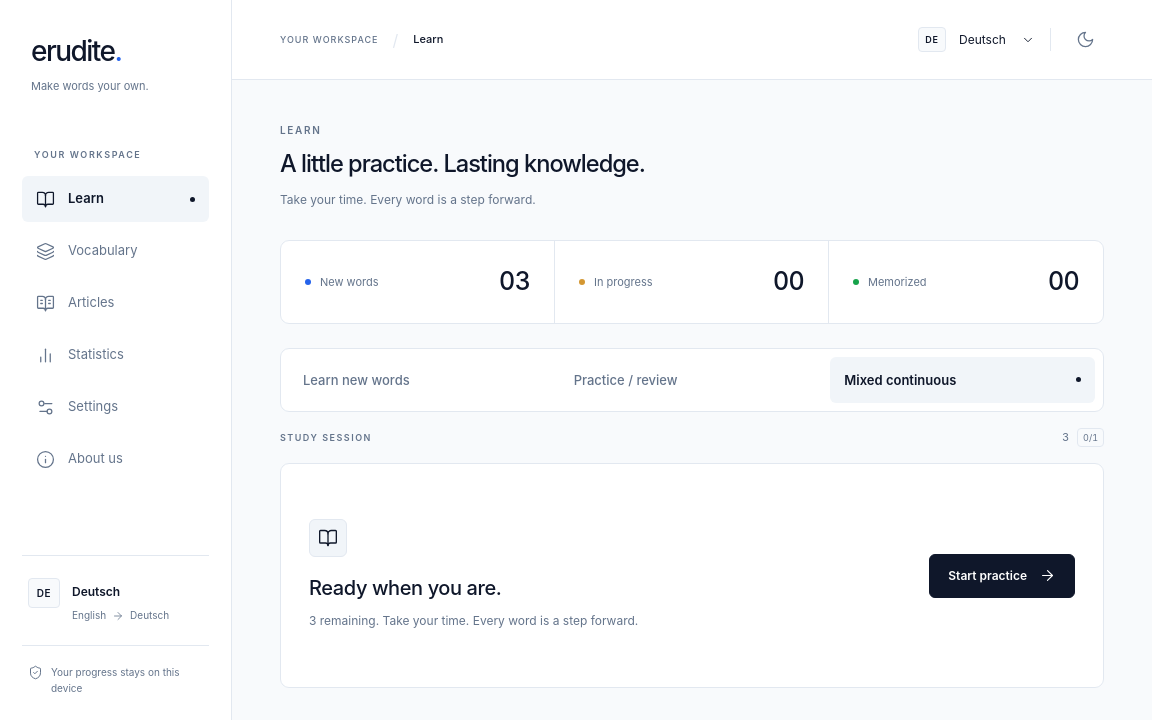
Test: daily word goal › restores daily progress on undo and celebrates again on reaching the goal
The width and height of the screenshot is (1152, 720).
Click the button "Start practice" at (1002, 576), box [929,554,1075,598]
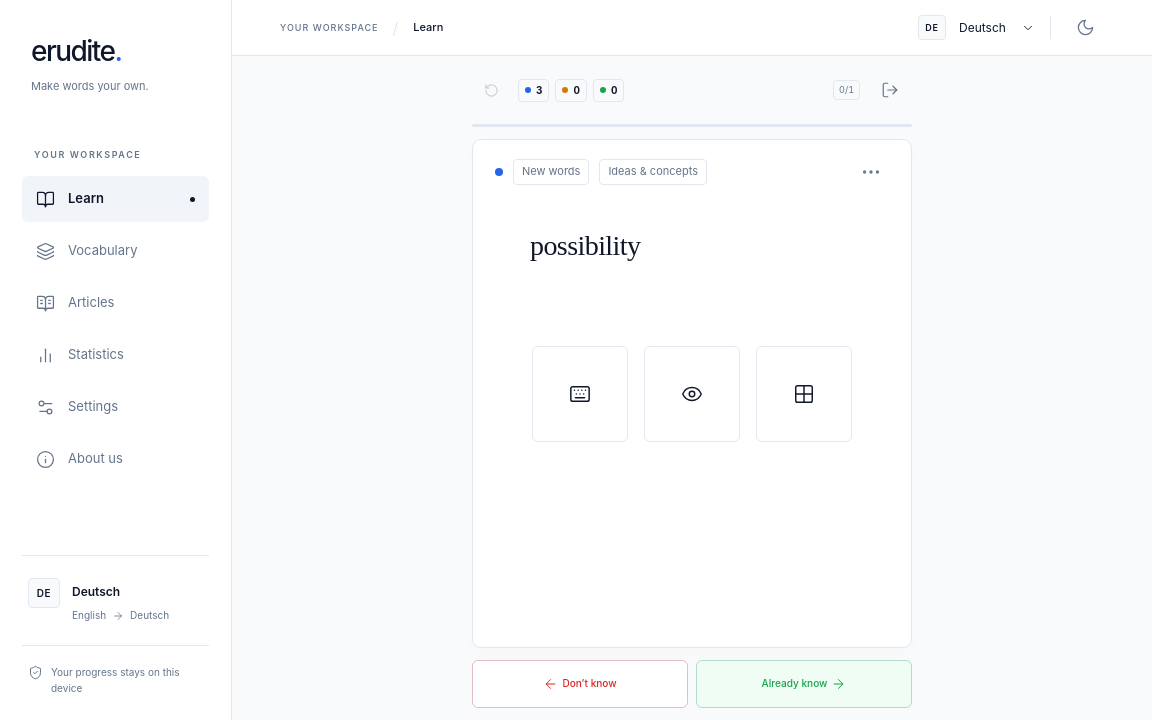
Click the button with class "action-know" at (804, 684), box [696,660,912,708]
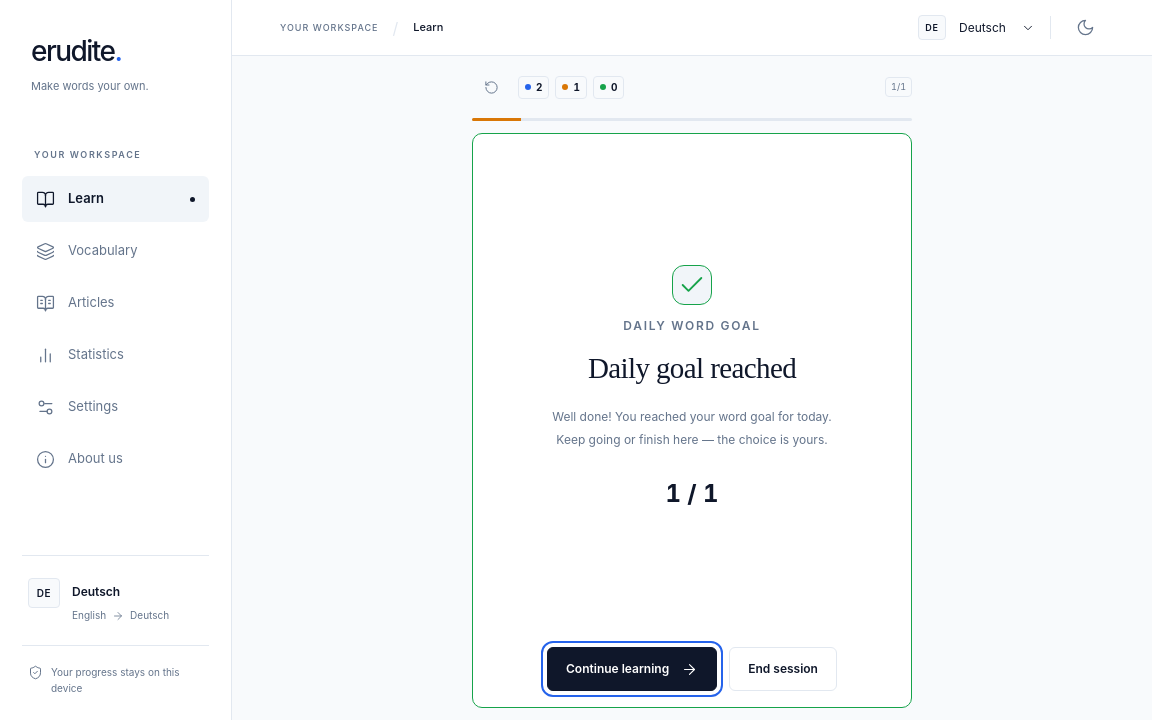
Press z in the button "Continue learning", box [547,647,717,691]
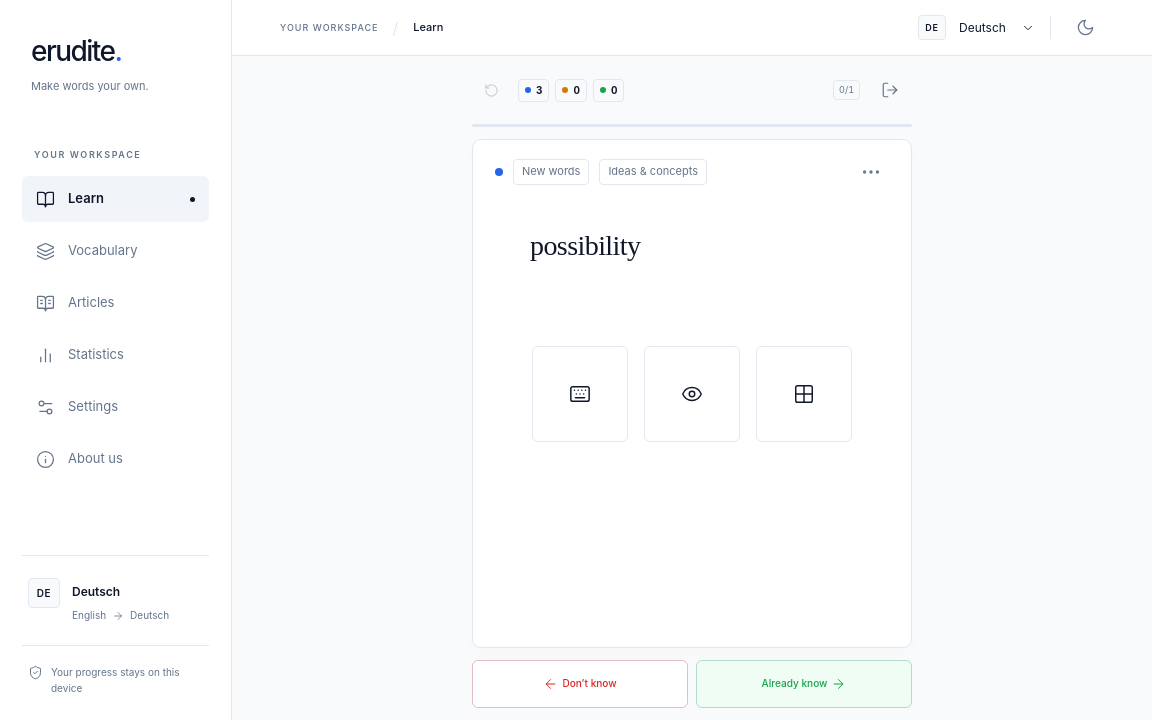
Now the text "Daily goal reached" is gone
Click the button with class "action-know" at (804, 684), box [696,660,912,708]
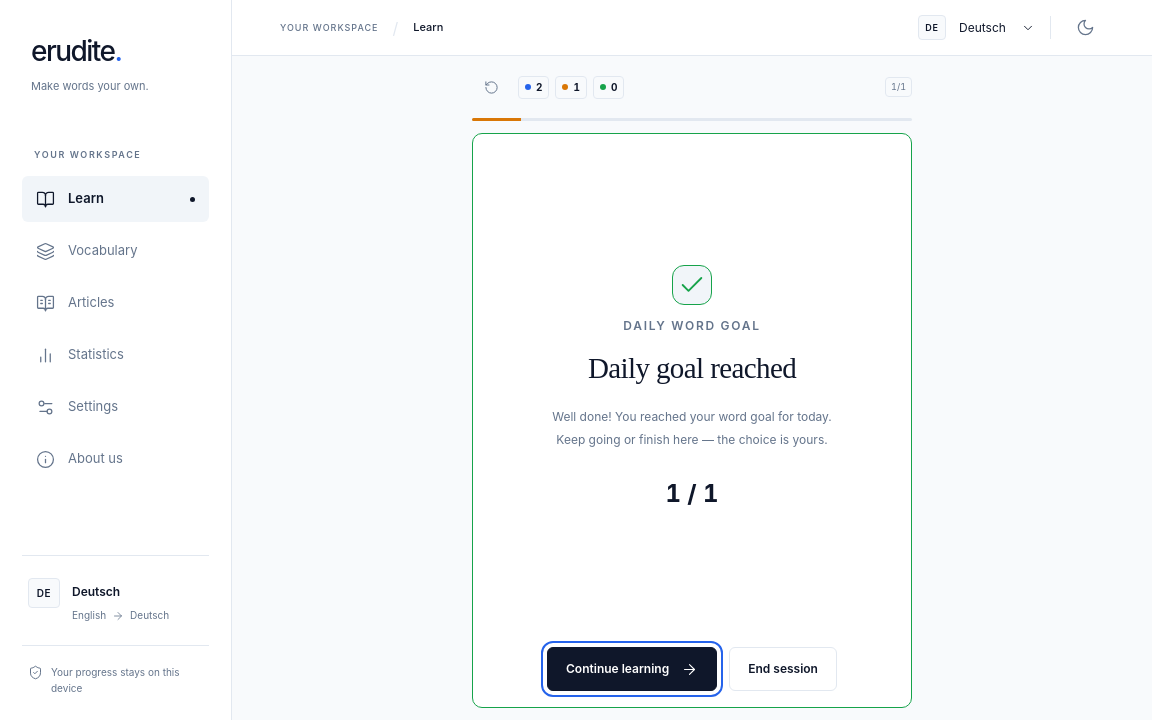
Now the text "Daily goal reached" is shown, box [588,347,796,391]
